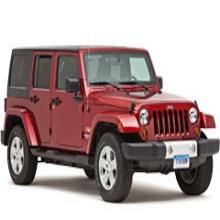no damage: (1, 46, 220, 202)
